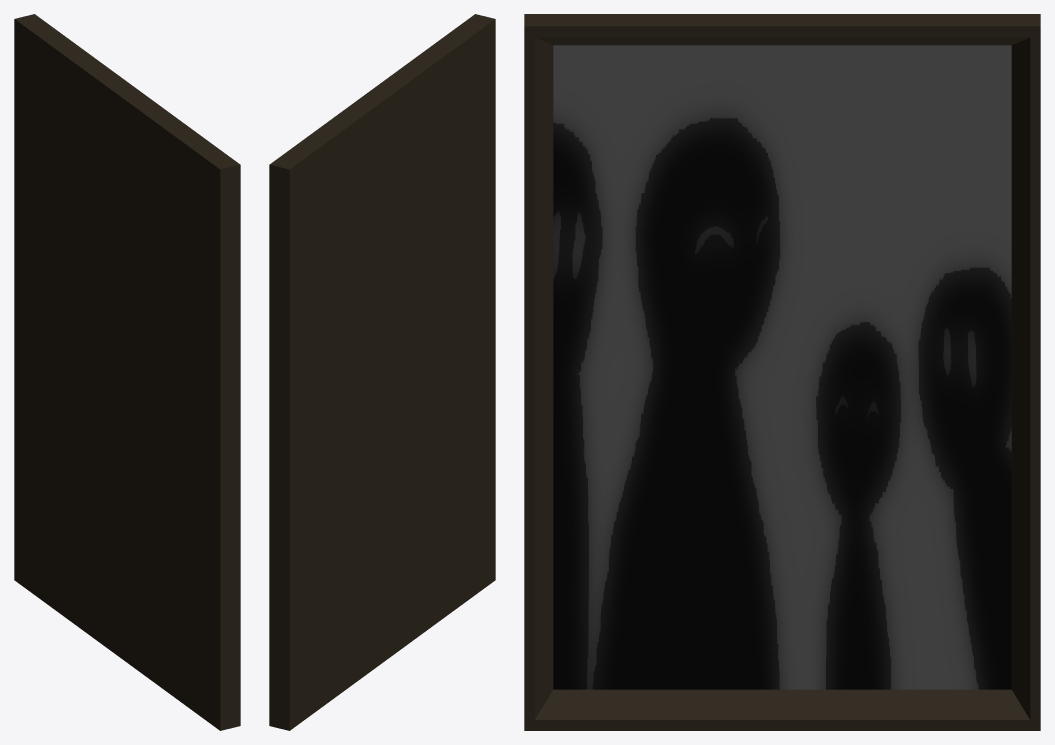
The model's file is PROJECT DREAM - Bedroom - Portrait.fbx.
3 views of the same model, side by side, from view 1: azimuth 30°, elevation 25°; view 2: azimuth 150°, elevation 25°; view 3: azimuth 270°, elevation 25° (orthographic). The views are drawn at different scales.
Visible parts, largest first — view 1: Bedroom - Portrait; view 2: Bedroom - Portrait; view 3: Bedroom - Portrait.
Part boxes in pixels (bbox=[...]): Bedroom - Portrait: bbox=[14, 14, 240, 730]; Bedroom - Portrait: bbox=[269, 14, 495, 730]; Bedroom - Portrait: bbox=[524, 14, 1040, 730].
Bounding box in the file's own units: 3.84 × 102 × 67.63.
2 materials, 1 textured.
